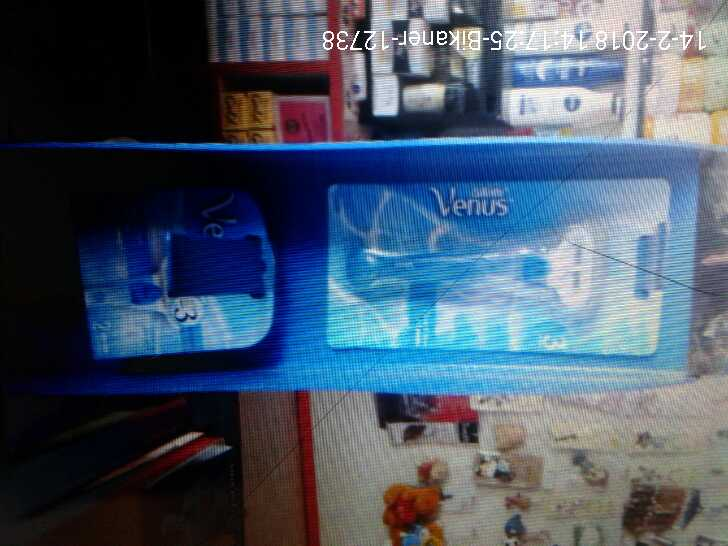venus: (334, 177, 658, 357), (86, 189, 278, 362)
